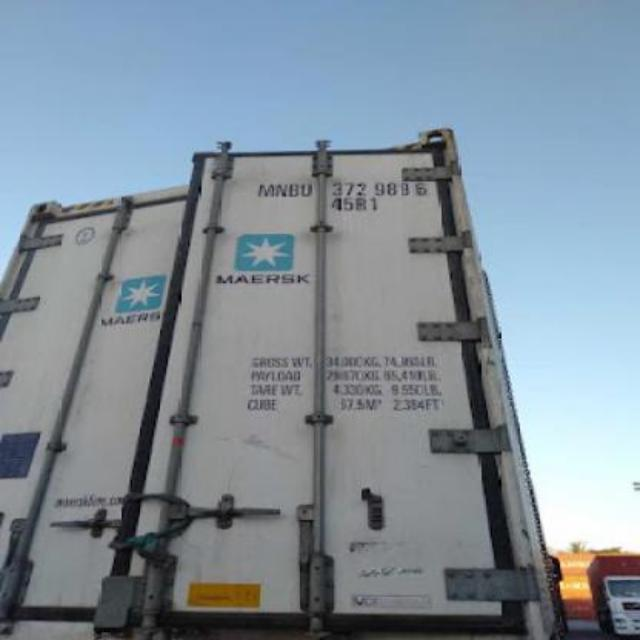2: (356, 180, 369, 196)
3: (328, 179, 346, 197)
6: (414, 181, 430, 197)
7: (340, 182, 356, 194)
8: (386, 182, 398, 196)
9: (398, 181, 412, 197), (376, 180, 386, 196)
B: (288, 182, 302, 198)
M: (256, 182, 276, 200)
N: (274, 182, 288, 198)
U: (300, 180, 314, 198)
